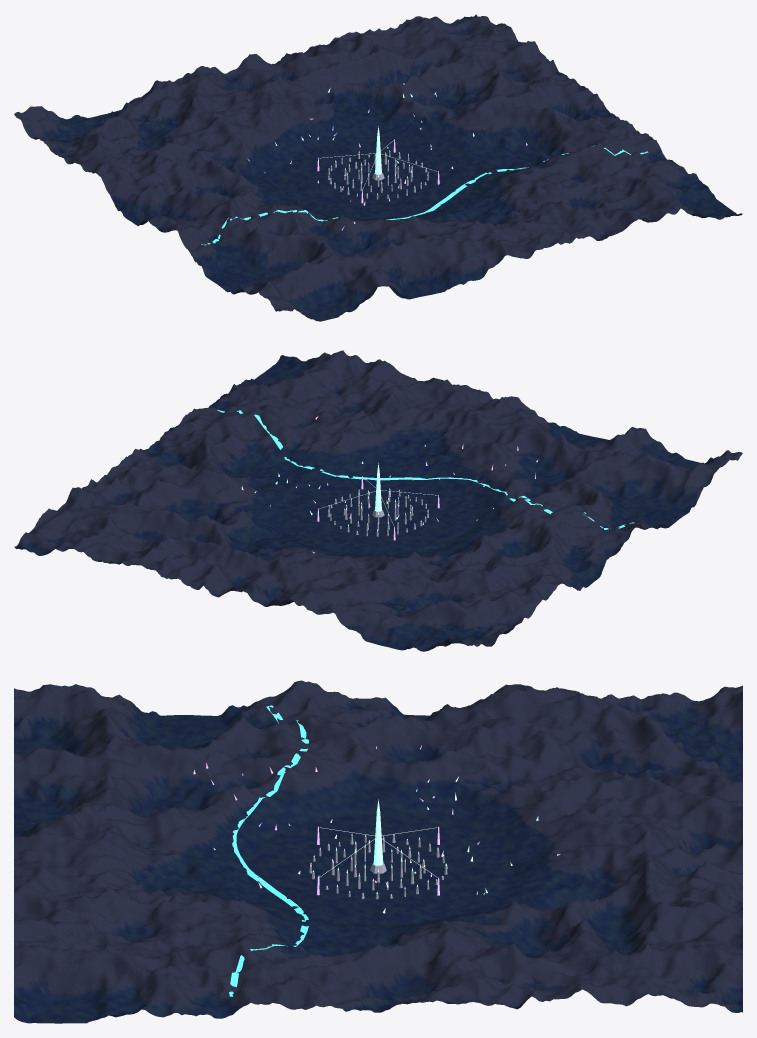
Rendered from world.glb.
3 views of the same model, one above another, from view 1: azimuth 30°, elevation 25°; view 2: azimuth 150°, elevation 25°; view 3: azimuth 270°, elevation 25° (orthographic). The views are drawn at different scales.
Visible parts, largest first — view 1: Terrain, StarlightRiver; view 2: Terrain, StarlightRiver; view 3: Terrain, StarlightRiver.
Boxes of the visible parts, x1=… form: Terrain: x1=14, y1=14, x2=742, y2=321; StarlightRiver: x1=201, y1=145, x2=648, y2=245; Terrain: x1=14, y1=350, x2=742, y2=651; StarlightRiver: x1=217, y1=409, x2=633, y2=529; Terrain: x1=14, y1=680, x2=742, y2=1023; StarlightRiver: x1=229, y1=705, x2=308, y2=996.
Size of the model in its own units: 6000 by 667 by 6000.
